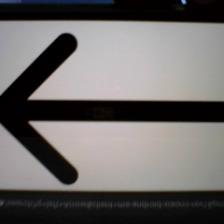left: (3, 32, 221, 186)
